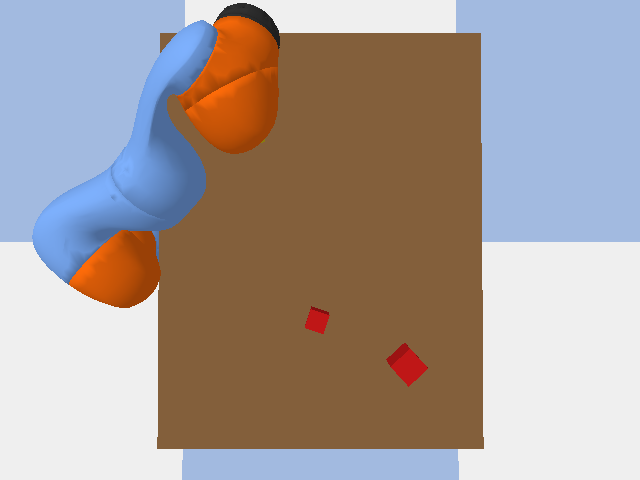red_obj: (386, 343, 427, 386), (305, 306, 329, 333)
yellow_obj: (261, 139, 264, 142)
